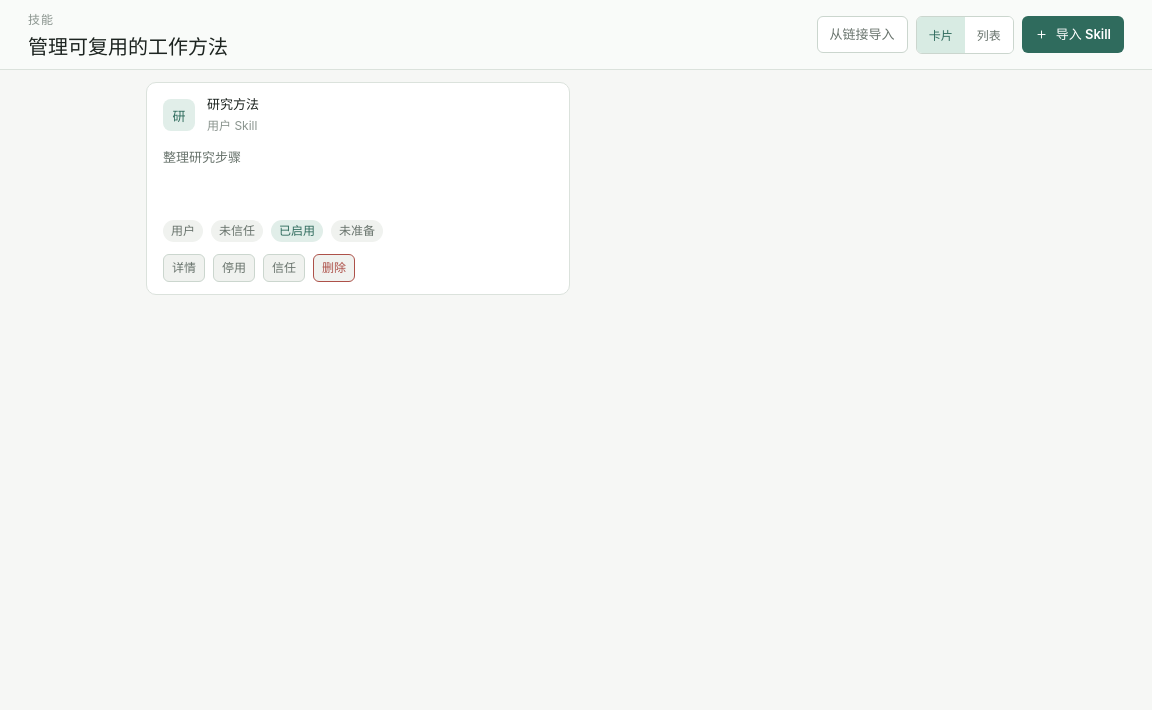
Test case: SkillsPage › shows import-time runtime clues without exposing profile JSON or preparing an unknown Skill
This screenshot has width=1152, height=710.
Check: the text "研究方法" is shown, box [207,95,259,113]
Click the button "研 研究方法 用户 Skill 整理研究步骤" at [179, 115], box [163,95,553,208]
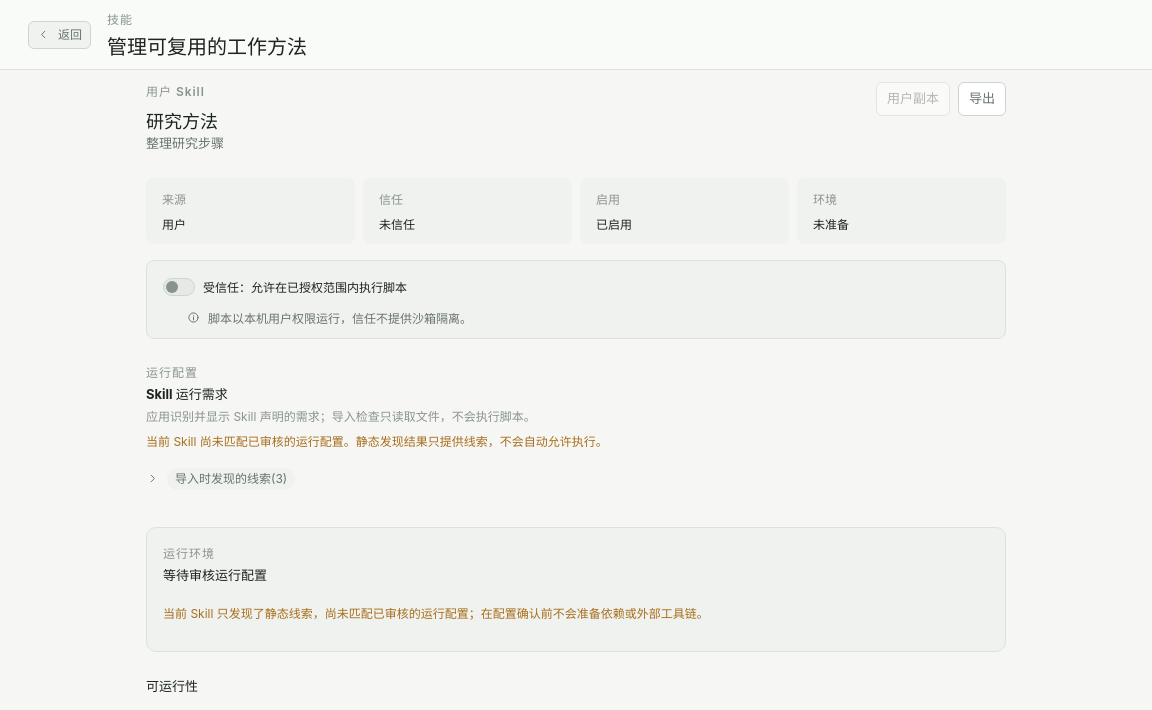
Click the heading "导入时发现的线索(3)" at [221, 479], box [146,468,295,490]
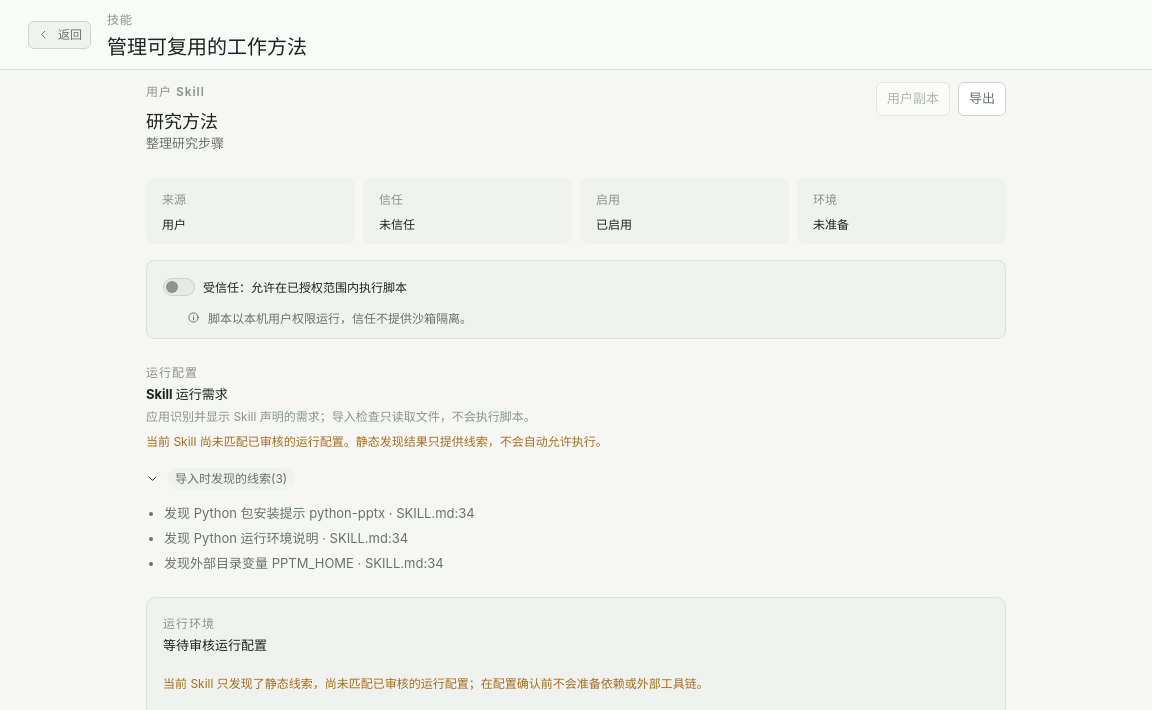
Check: the list item "发现 Python 运行环境说明 · SKILL.md:34" is shown, box [164,530,408,546]
Check: the list item "发现外部目录变量 PPTM_HOME · SKILL.md:34" is shown, box [164,555,444,571]
